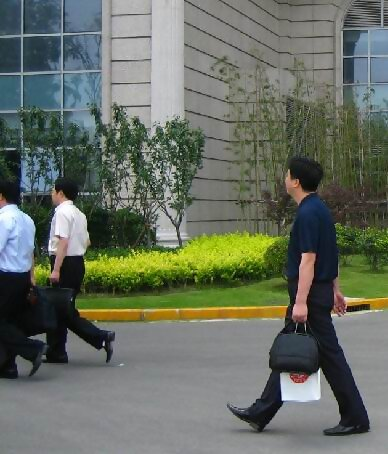person: (223, 151, 379, 436), (38, 175, 118, 365), (1, 180, 49, 384)
